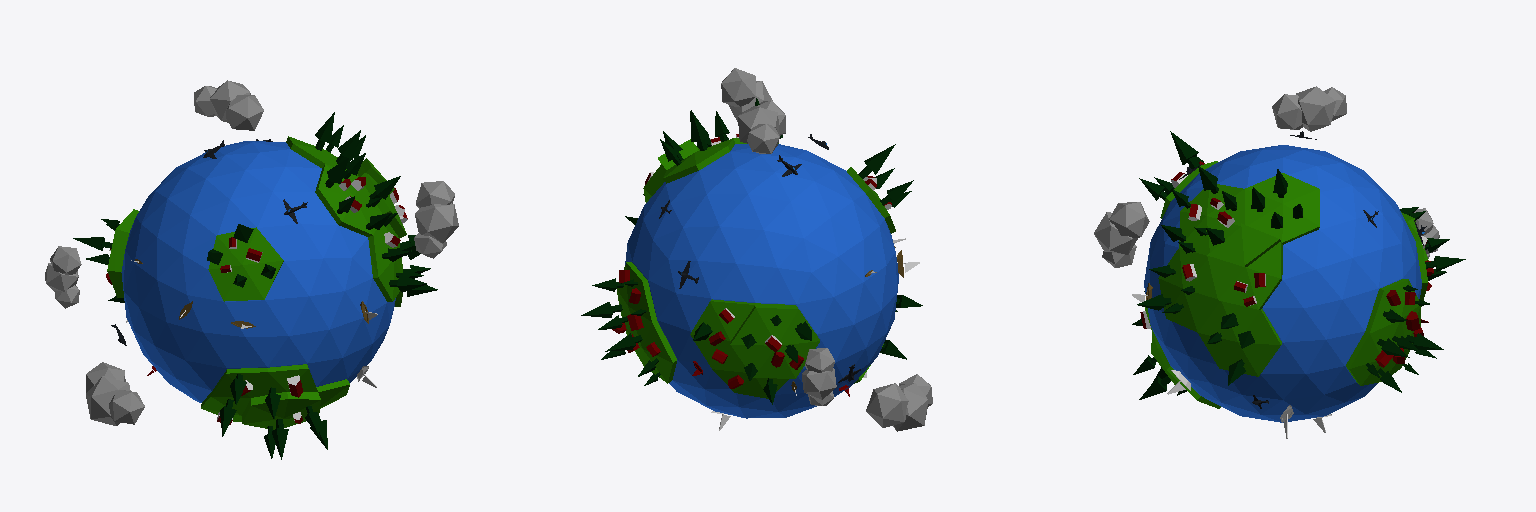
The model's file is planet.obj.
3 renders of one model, left to right at view 1: azimuth 30°, elevation 25°; view 2: azimuth 150°, elevation 25°; view 3: azimuth 270°, elevation 25°, orthographic.
Parts seen in each view (by area): view 1: Icosphere.001, Icosphere, Icosphere.005, Plane.027; view 2: Icosphere.001, Icosphere, Icosphere.005, Plane.027, Plane.086; view 3: Icosphere.001, Icosphere, Icosphere.005, Plane.027, Plane.084.
Part boxes in pixels (x1,y1,x2,y2): Icosphere.001: (121, 141, 395, 402); Icosphere: (107, 136, 406, 429); Icosphere.005: (45, 80, 458, 425); Plane.027: (106, 177, 407, 424); Icosphere.001: (625, 144, 898, 418); Icosphere: (617, 138, 895, 398); Icosphere.005: (721, 68, 932, 431); Plane.027: (612, 134, 891, 388); Plane.086: (659, 134, 860, 382); Icosphere.001: (1144, 145, 1421, 422); Icosphere: (1145, 161, 1428, 408); Icosphere.005: (1094, 86, 1439, 267); Plane.027: (1140, 161, 1433, 367); Plane.084: (1132, 228, 1331, 438).
Size of the model in its own units: 2.81 by 2.73 by 2.79.